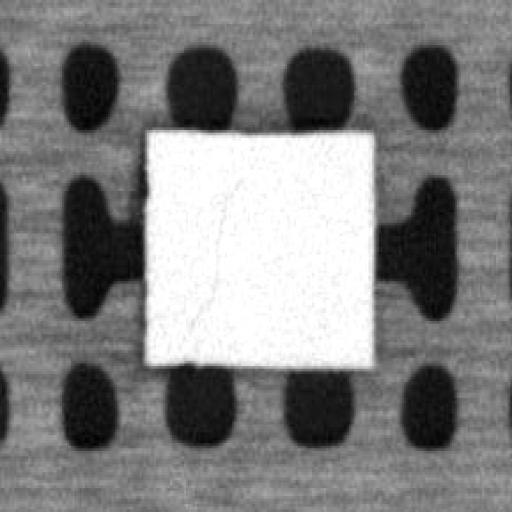DIE_CRACK: (186, 175, 246, 324)
